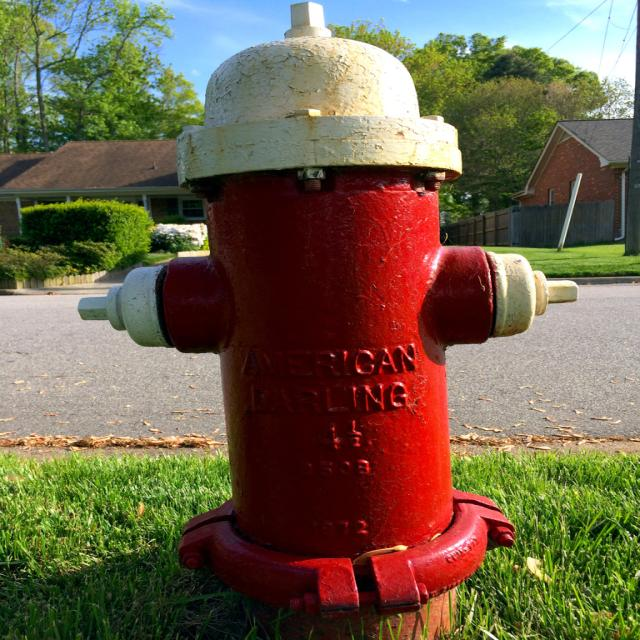fire_hydrant: (74, 1, 579, 640)
